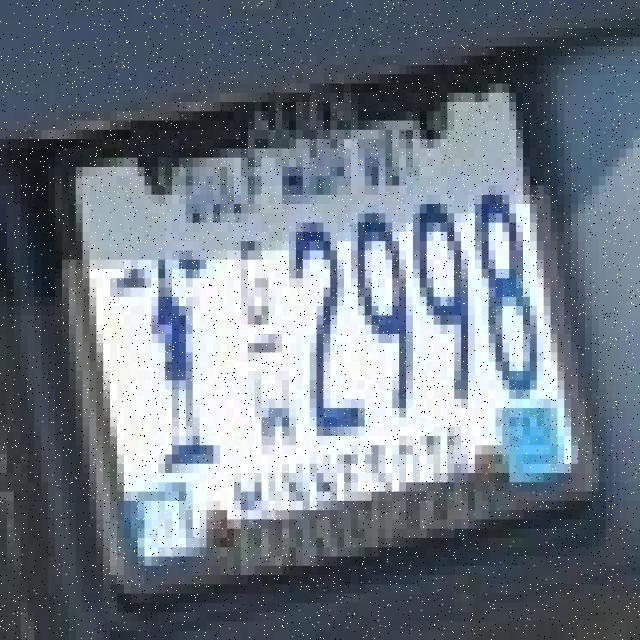LicensePlate: (35, 28, 609, 588)
